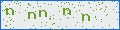n: (39, 10, 47, 18), (62, 8, 71, 15), (82, 14, 90, 21), (28, 12, 36, 19), (6, 8, 14, 15)
